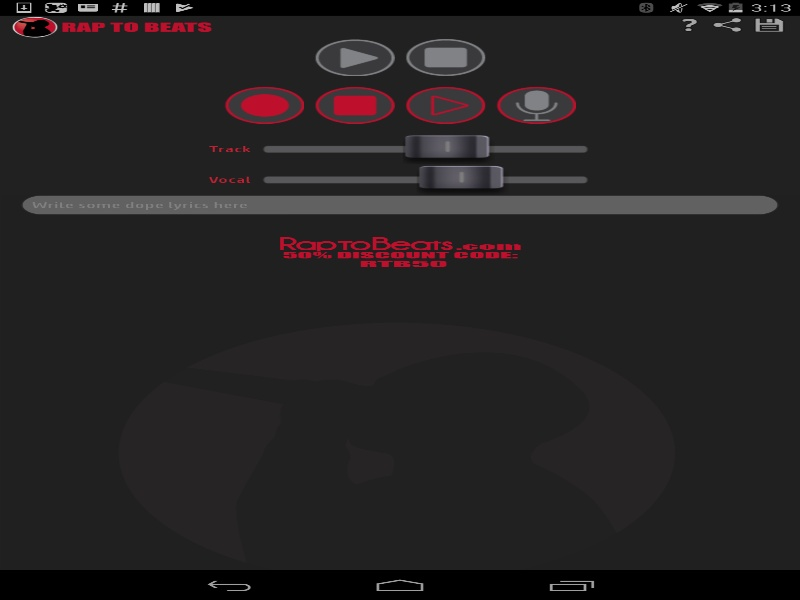Button: (314, 38, 394, 76), (405, 38, 485, 76), (224, 86, 304, 123), (314, 86, 394, 123), (405, 86, 485, 123), (496, 86, 576, 123), (669, 15, 709, 34), (709, 15, 749, 34), (749, 15, 789, 34)
Input: (21, 195, 778, 215)
